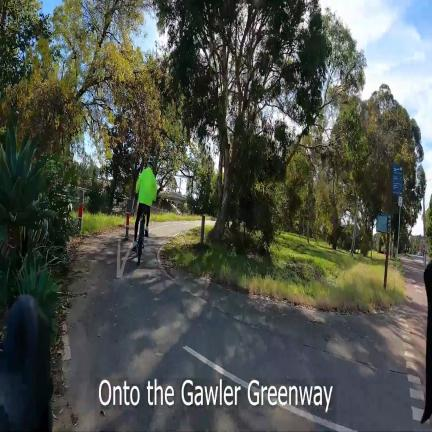Bike_Lane: (53, 221, 420, 432)
